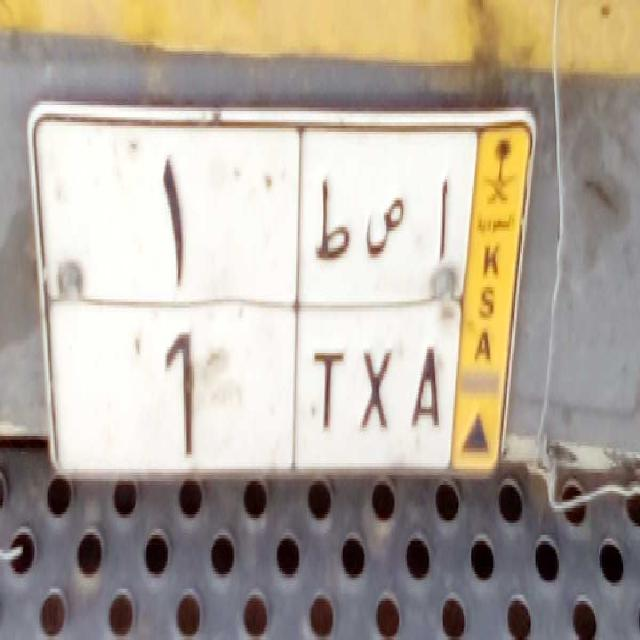license_plate: (88, 302, 454, 482)
